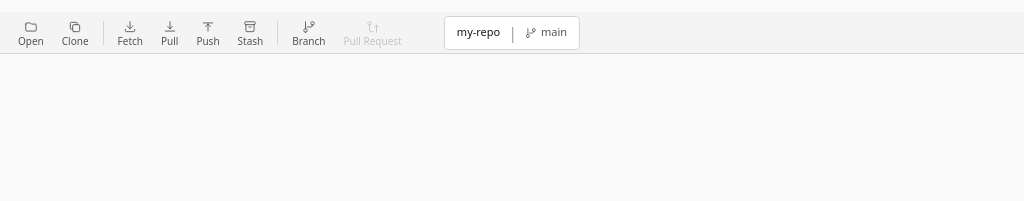
Scenario: ActionToolbar › Branch flyover › enables Create button when a valid branch name is entered
Click the button with test id "toolbar-btn-Branch" at (309, 32), box [284,16,334,50]
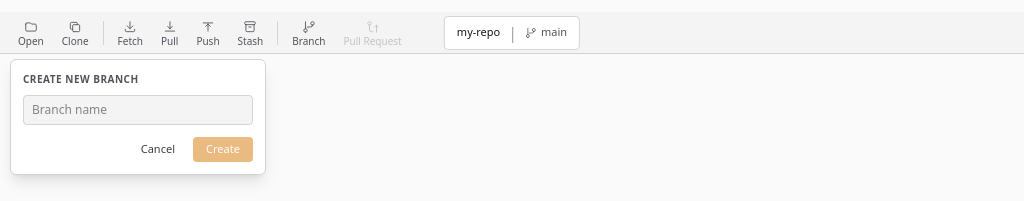
Type "feature/new" into the field with placeholder "Branch name" at (138, 110), box [23,95,253,125]
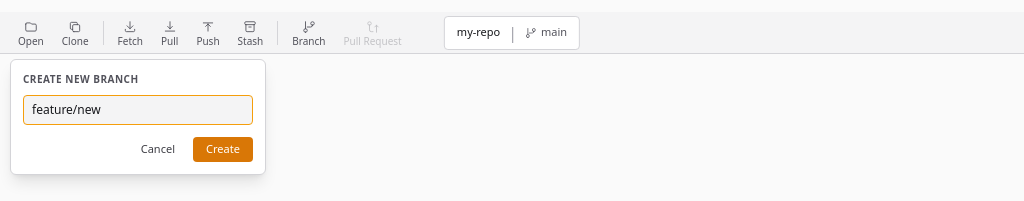
Check: the button "Create" is enabled, box [193,137,253,162]
